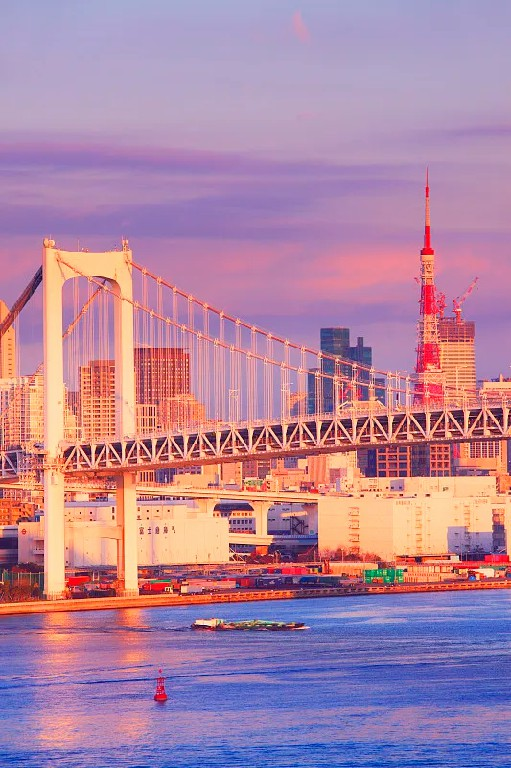Tokyo: (411, 159, 443, 409)
